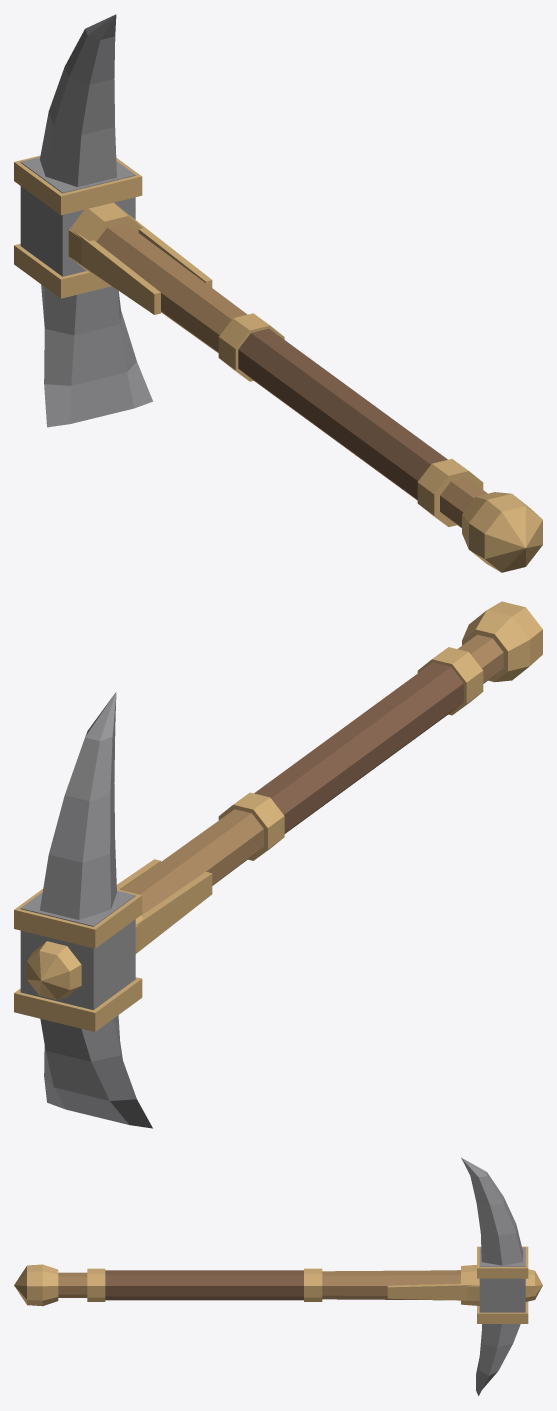
The model's file is held-pick.glb.
The picture shows the model from 3 angles, top to bottom: view 1: azimuth 30°, elevation 25°; view 2: azimuth 150°, elevation 25°; view 3: azimuth 270°, elevation 25°; orthographic projection. The views are drawn at different scales.
Parts seen in each view (by area): view 1: pick_chisel, grip_wrap, pick_point, haft, pommel, head_eye, head_band_top, langet_l, head_band_bottom, collar, grip_band_lower, grip_band_upper (+1 smaller); view 2: grip_wrap, pick_point, pick_chisel, haft, head_eye, pommel, head_band_top, head_band_bottom, head_cap, langet_l, grip_band_upper, grip_band_lower; view 3: grip_wrap, haft, pick_point, head_eye, pick_chisel, pommel, langet_r, head_band_top, head_band_bottom, grip_band_lower, grip_band_upper, collar (+1 smaller).
Part boxes in pixels (x1,y1,x2,y2): pick_chisel: (41, 284, 152, 427); grip_wrap: (238, 328, 447, 500); pick_point: (40, 14, 116, 187); haft: (96, 223, 487, 527); pommel: (462, 492, 542, 572); head_eye: (20, 157, 135, 276); head_band_top: (14, 155, 142, 215); langet_l: (71, 229, 160, 314); head_band_bottom: (14, 243, 111, 298); collar: (68, 202, 142, 278); grip_band_lower: (417, 459, 483, 526); grip_band_upper: (218, 313, 284, 381); grip_wrap: (254, 662, 463, 833); pick_point: (40, 692, 116, 919); pick_chisel: (40, 1015, 152, 1128); haft: (122, 634, 503, 915); head_eye: (20, 890, 135, 1010); pommel: (462, 601, 542, 682); head_band_top: (14, 889, 142, 948); head_band_bottom: (14, 977, 142, 1031); head_cap: (27, 941, 81, 999); langet_l: (135, 872, 212, 953); grip_band_upper: (218, 792, 284, 860); grip_band_lower: (417, 647, 483, 715); grip_wrap: (105, 1270, 303, 1300); haft: (58, 1270, 460, 1300); pick_point: (461, 1157, 522, 1265); head_eye: (479, 1247, 525, 1312); pick_chisel: (476, 1324, 520, 1395); pommel: (14, 1264, 58, 1306); langet_r: (387, 1283, 478, 1300); head_band_top: (477, 1246, 528, 1278); head_band_bottom: (477, 1301, 528, 1323); grip_band_lower: (87, 1268, 105, 1301); grip_band_upper: (304, 1268, 322, 1301); collar: (461, 1265, 479, 1305).
Size of what is drawn, in the model's own units: 0.128 by 0.475 by 1.01.
